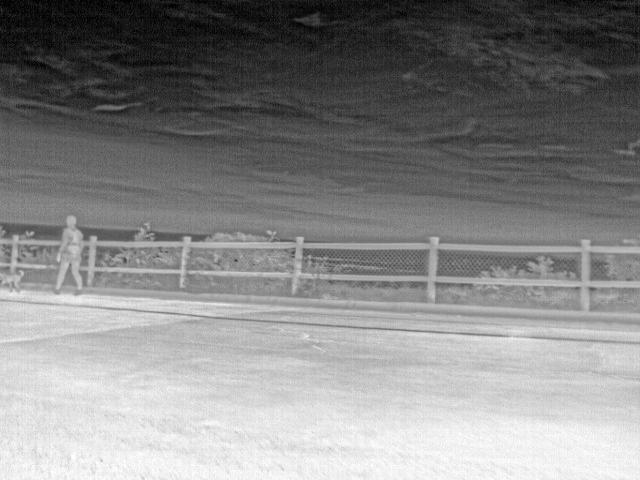dog: (0, 269, 26, 293)
person: (50, 213, 85, 297)
